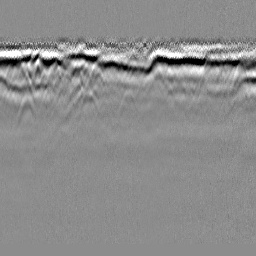cavity: (117, 88, 139, 117)
